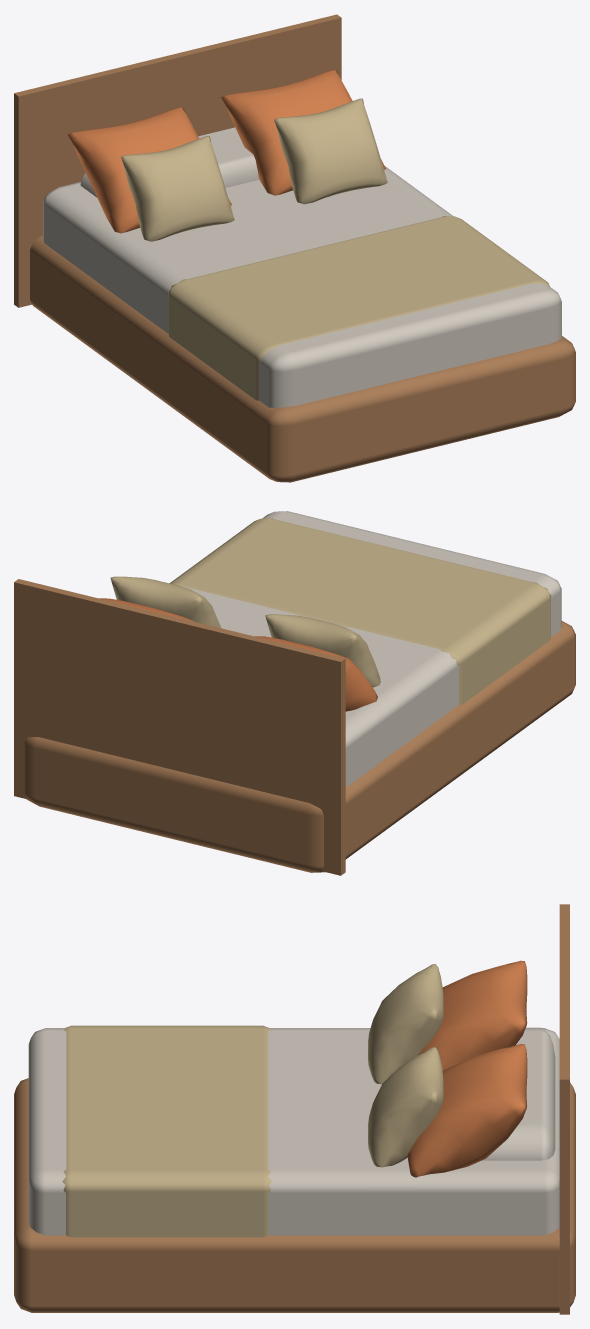
Rendered from test-bed.glb.
3 renders of one model, top to bottom at view 1: azimuth 30°, elevation 25°; view 2: azimuth 150°, elevation 25°; view 3: azimuth 270°, elevation 25°, orthographic. The views are drawn at different scales.
Visible parts, largest first — view 1: bed, base, cover, cushion (×4), bigwoodback, longcushion; view 2: bigwoodback, base, cover, bed, cushion (×3); view 3: base, bed, cover, cushion (×4), longcushion, bigwoodback.
Boxes of the visible parts, box(x1,y1,x2,y2) form: bed: box(43, 166, 561, 408); base: box(30, 235, 575, 482); cover: box(168, 216, 549, 400); cushion (×4): box(68, 70, 387, 241); bigwoodback: box(14, 14, 341, 307); longcushion: box(80, 127, 259, 197); bigwoodback: box(14, 579, 345, 875); base: box(24, 621, 575, 872); cover: box(169, 518, 551, 704); bed: box(183, 511, 561, 787); cushion (×3): box(110, 576, 380, 711); base: box(14, 1078, 575, 1312); bed: box(28, 1028, 559, 1235); cover: box(62, 1025, 271, 1237); cushion (×4): box(367, 960, 527, 1177); longcushion: box(482, 1027, 555, 1160); bigwoodback: box(559, 904, 569, 1314).
Size of the model in its own units: 2.66 by 1.72 by 3.61.
